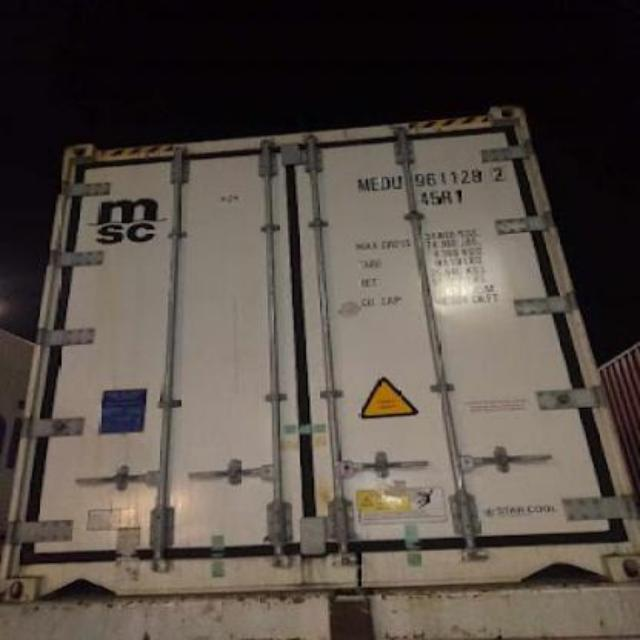1: (448, 169, 462, 185), (436, 170, 449, 186)
2: (458, 169, 472, 185), (492, 168, 508, 180)
6: (426, 172, 438, 186)
8: (468, 169, 486, 185)
9: (414, 172, 424, 185)
D: (378, 177, 394, 193)
E: (370, 177, 382, 193)
M: (354, 178, 370, 192)
U: (390, 175, 406, 191)
